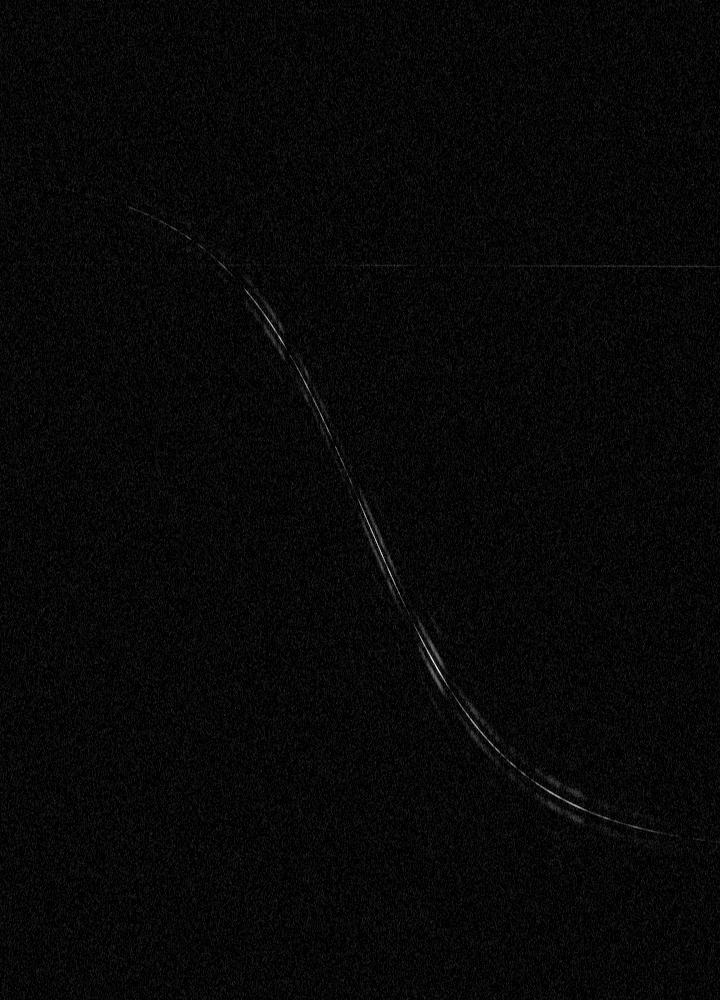signal: (0, 0, 719, 999)
